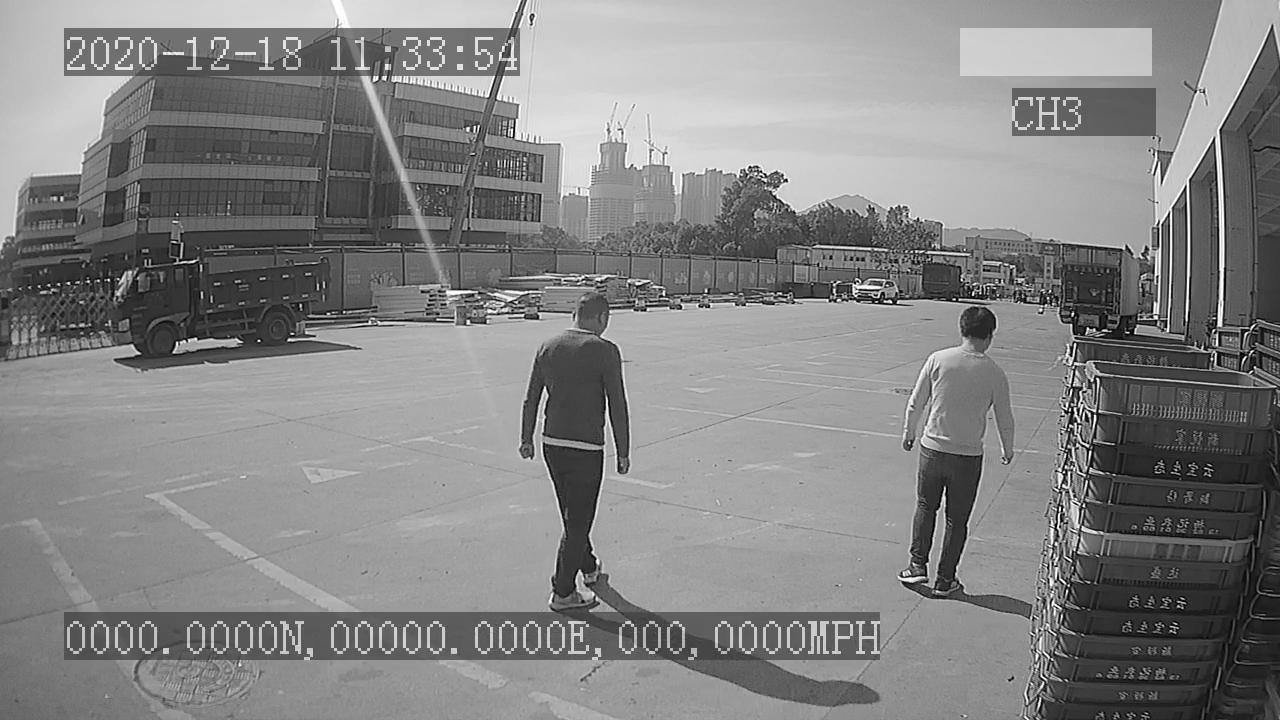person: (518, 290, 633, 607), (899, 299, 1015, 601)
